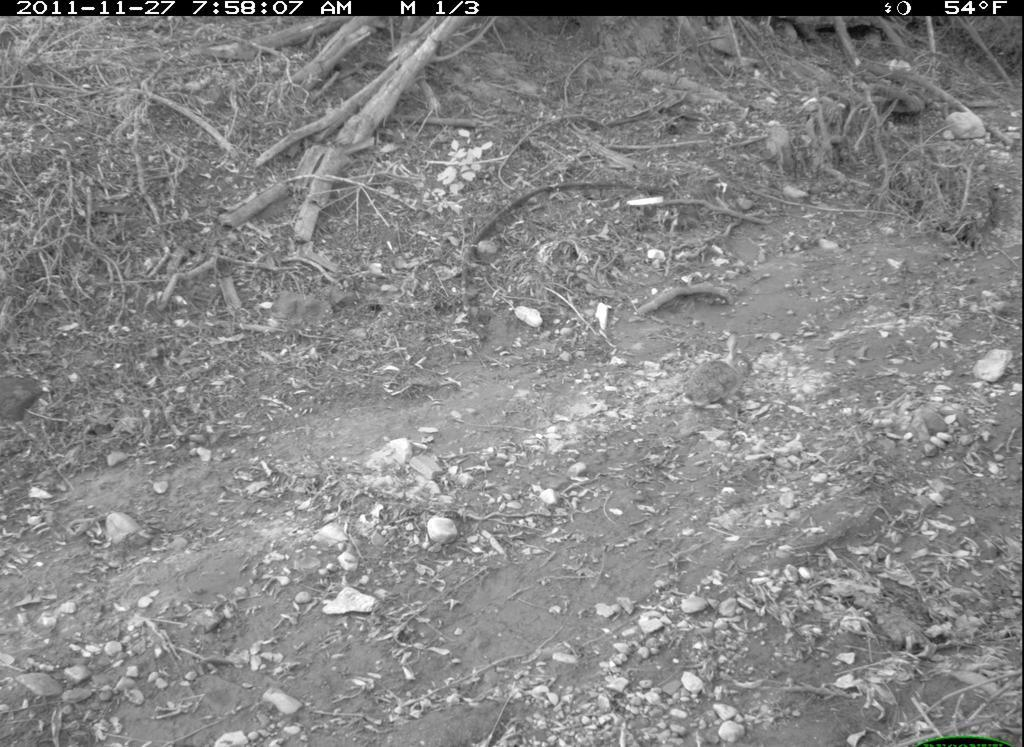rabbit: (678, 331, 767, 441)
